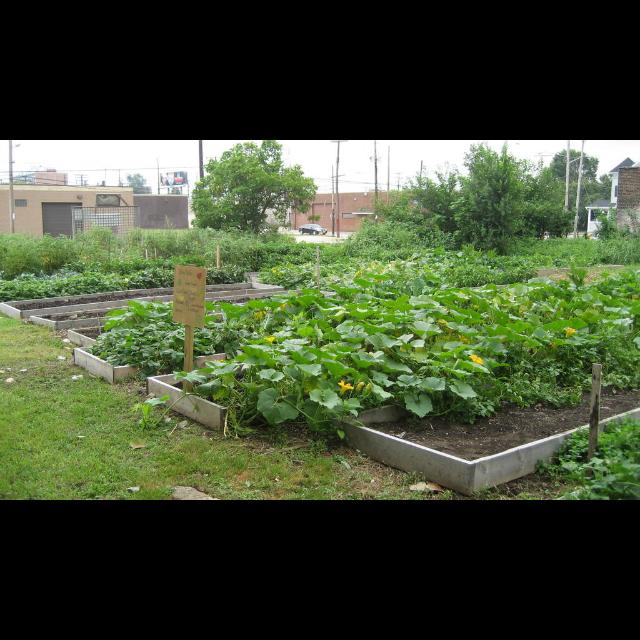Flower: (564, 326, 580, 339), (338, 379, 352, 391), (469, 353, 485, 363), (256, 311, 268, 321), (458, 334, 472, 342), (264, 335, 278, 341), (547, 342, 555, 348), (280, 302, 286, 308), (630, 294, 636, 298), (277, 272, 281, 276), (368, 266, 372, 270), (382, 268, 386, 272), (271, 270, 275, 272)
